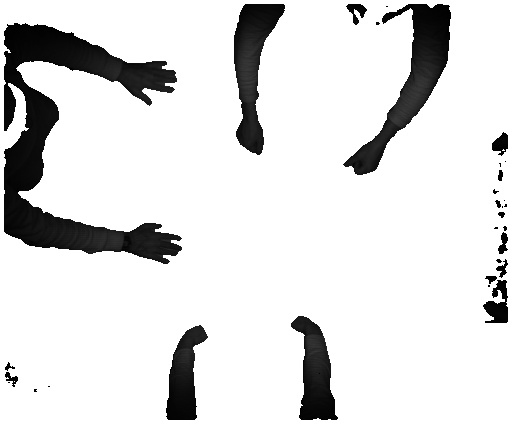fist: (336, 143, 397, 175), (232, 118, 263, 159), (168, 320, 207, 352), (288, 312, 327, 339)
hand: (124, 56, 183, 111), (132, 216, 183, 263)
